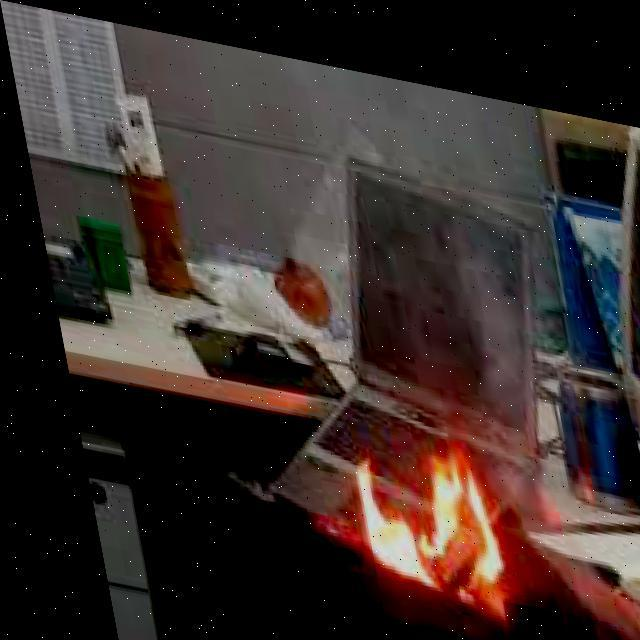Fire: (332, 427, 497, 596)
